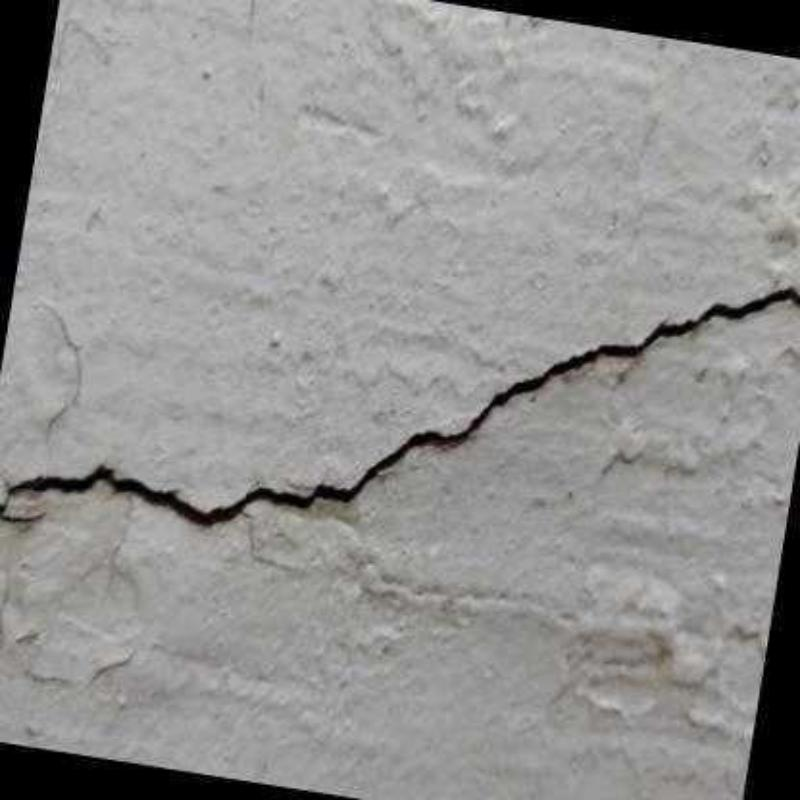crack: (0, 279, 800, 531)
